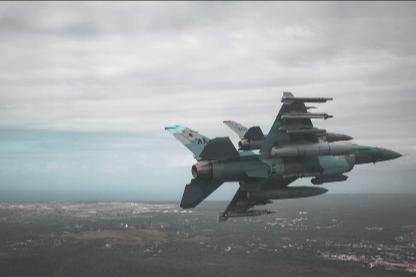F14: (164, 90, 410, 222), (222, 106, 358, 151)
